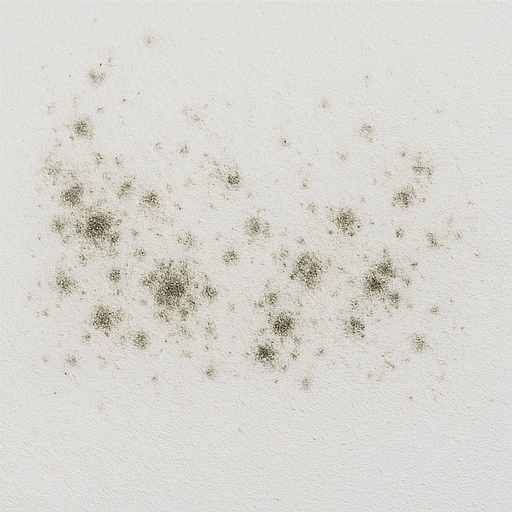schimmel: (43, 175, 148, 254), (247, 314, 310, 372), (140, 269, 220, 309), (353, 258, 425, 302), (283, 239, 342, 288)
